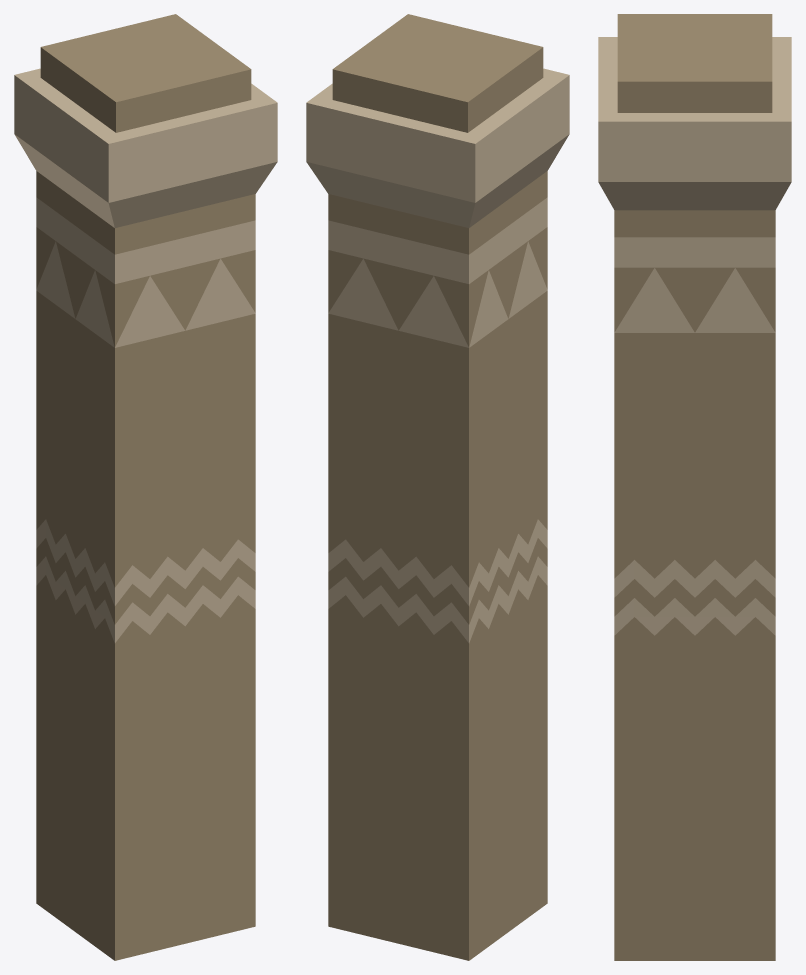
The model's file is LightSandStoneColumnBlockRoofSupport1.fbx.
3 views of the same model, side by side, from view 1: azimuth 30°, elevation 25°; view 2: azimuth 150°, elevation 25°; view 3: azimuth 270°, elevation 25° (orthographic). The views are drawn at different scales.
Parts seen in each view (by area): view 1: LightSandStoneColumnBlockRoofSupport1; view 2: LightSandStoneColumnBlockRoofSupport1; view 3: LightSandStoneColumnBlockRoofSupport1.
Part boxes in pixels (x1,y1,x2,y2): LightSandStoneColumnBlockRoofSupport1: (14, 14, 277, 960); LightSandStoneColumnBlockRoofSupport1: (306, 14, 569, 960); LightSandStoneColumnBlockRoofSupport1: (598, 14, 791, 960).
Bounding box in the file's own units: 360 × 1742 × 348.
